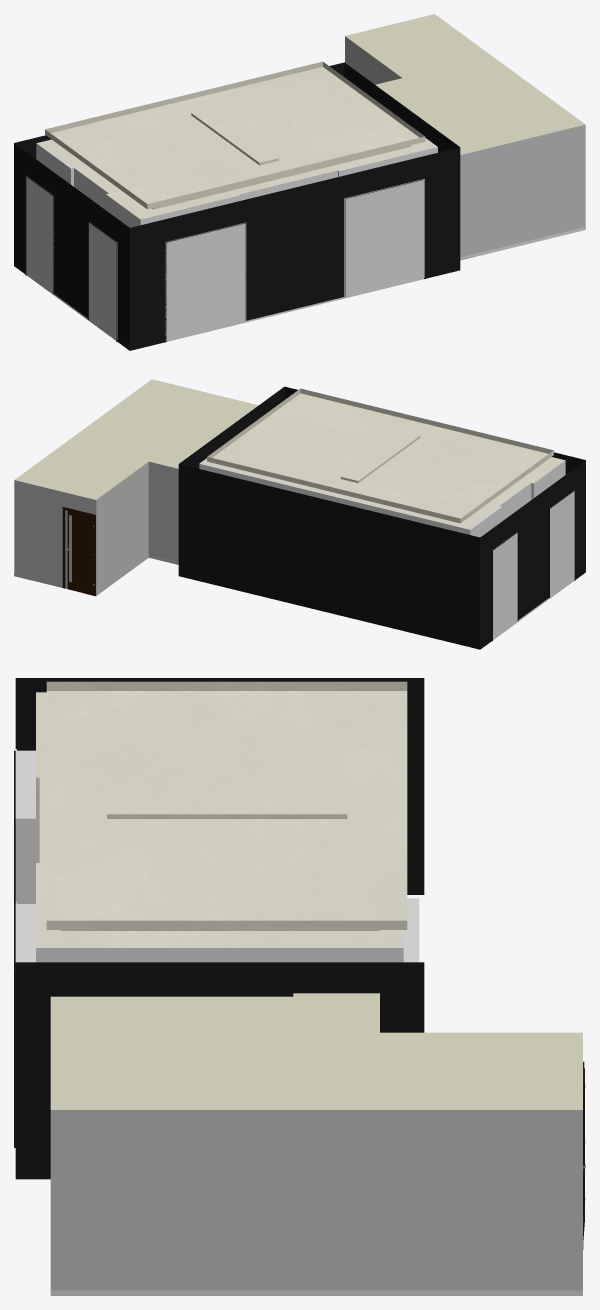
Rendered from sala_coworking.fbx.
3 views of the same model, one above another, from view 1: azimuth 30°, elevation 25°; view 2: azimuth 150°, elevation 25°; view 3: azimuth 270°, elevation 25° (orthographic). The views are drawn at different scales.
Visible parts, largest first — view 1: Outside Walls, Ceiling, Windows, Main Room.002, Main Room, Inside Walls, Floor thing; view 2: Outside Walls, Ceiling, Main Room, Main Room.002, Inside Walls, Windows, ramiak_przy.001, framuga_ramiak.001; view 3: Main Room, Ceiling, Main Room.002, Outside Walls, Inside Walls, Floor thing, Floor.
Part boxes in pixels (x1=…): Outside Walls: x1=14, y1=62, x2=460, y2=350; Ceiling: x1=45, y1=61, x2=425, y2=209; Windows: x1=26, y1=177, x2=423, y2=339; Main Room.002: x1=345, y1=14, x2=585, y2=154; Main Room: x1=345, y1=36, x2=585, y2=260; Inside Walls: x1=26, y1=138, x2=437, y2=341; Floor thing: x1=460, y1=227, x2=585, y2=259; Outside Walls: x1=178, y1=386, x2=585, y2=649; Ceiling: x1=207, y1=388, x2=553, y2=523; Main Room: x1=14, y1=461, x2=178, y2=595; Main Room.002: x1=15, y1=379, x2=258, y2=499; Inside Walls: x1=199, y1=457, x2=574, y2=639; Windows: x1=493, y1=491, x2=574, y2=638; ramiak_przy.001: x1=67, y1=511, x2=94, y2=595; framuga_ramiak.001: x1=62, y1=507, x2=95, y2=596; Main Room: x1=50, y1=1110, x2=582, y2=1290; Ceiling: x1=46, y1=681, x2=407, y2=929; Main Room.002: x1=50, y1=993, x2=582, y2=1109; Outside Walls: x1=14, y1=678, x2=424, y2=1179; Inside Walls: x1=15, y1=692, x2=403, y2=962; Floor thing: x1=50, y1=1290, x2=582, y2=1295; Floor: x1=404, y1=898, x2=419, y2=962.
Bounding box in the file's own units: 1590 × 435 × 956.
